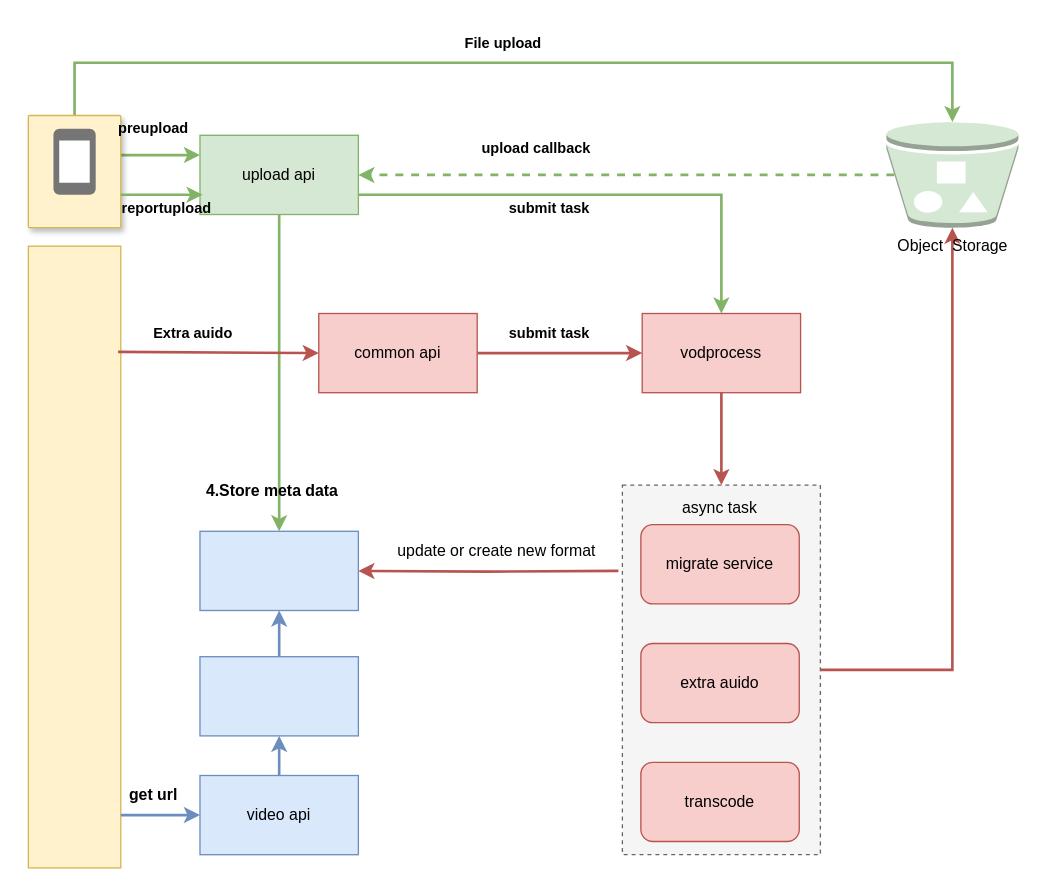
The diagram is 1041 pixels wide and 891 high, and some of its shapes have lost their labels. The shapes that lost their labels are listed below. From the top down, each one's centre as x and y in pixels, then its label:
At point (75, 173): "uploader".
At point (74, 556): "Biz BE".
At point (278, 570): "mediamanager".
At point (278, 695): "videodispatcher".
